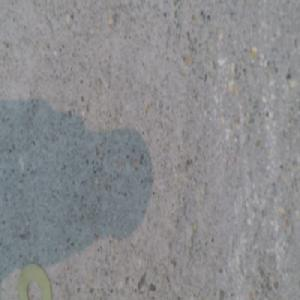Washer: (17, 262, 53, 299)
